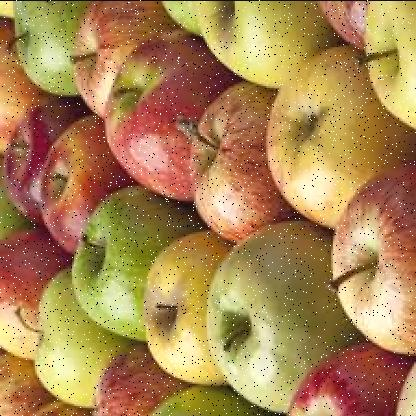apple: (218, 222, 344, 412), (266, 39, 396, 220), (107, 37, 235, 181), (184, 74, 288, 242), (72, 189, 183, 331), (146, 229, 242, 381), (331, 174, 414, 348), (34, 268, 118, 409), (39, 116, 124, 254), (0, 235, 83, 364), (2, 98, 84, 220), (74, 7, 168, 113), (16, 2, 88, 94)
